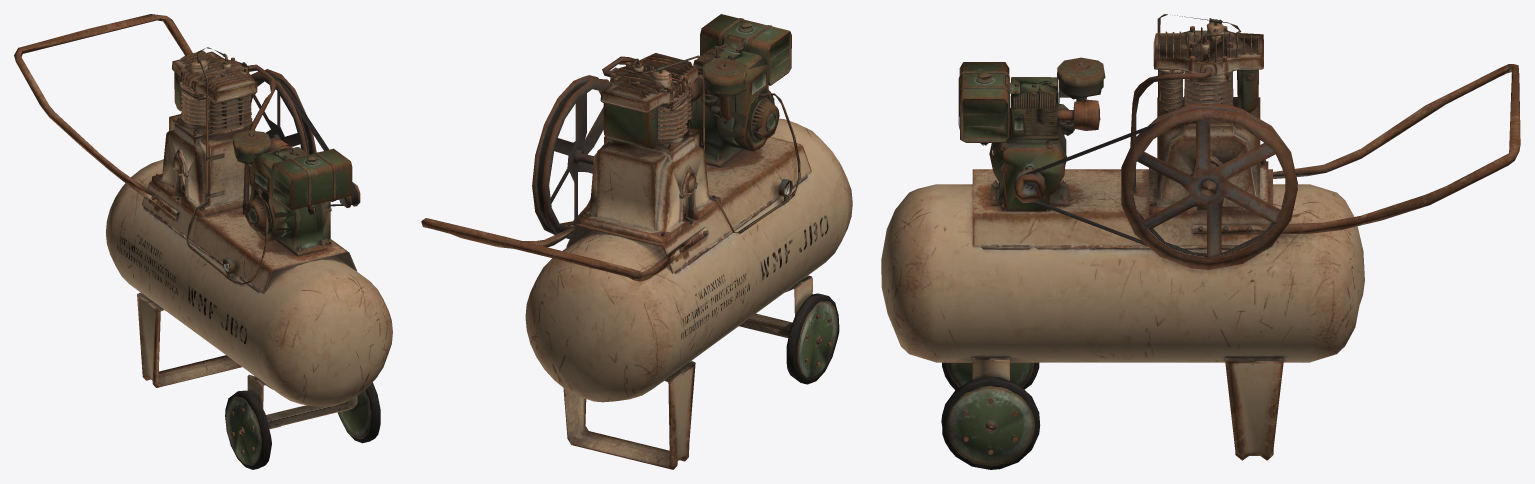
The model's file is old_military_compressor.glb.
3 views of the same model, side by side, from view 1: azimuth 30°, elevation 25°; view 2: azimuth 150°, elevation 25°; view 3: azimuth 270°, elevation 25° (orthographic). The views are drawn at different scales.
Visible parts, largest first — view 1: old_military_compressor; view 2: old_military_compressor; view 3: old_military_compressor.
Boxes of the visible parts, <box> form: old_military_compressor: <box>14,14,392,469</box>; old_military_compressor: <box>421,14,852,469</box>; old_military_compressor: <box>881,14,1520,469</box>.
Bounding box in the file's own units: 0.5957 × 1.18 × 1.67.
Materials: 2 (2 with a texture image).
